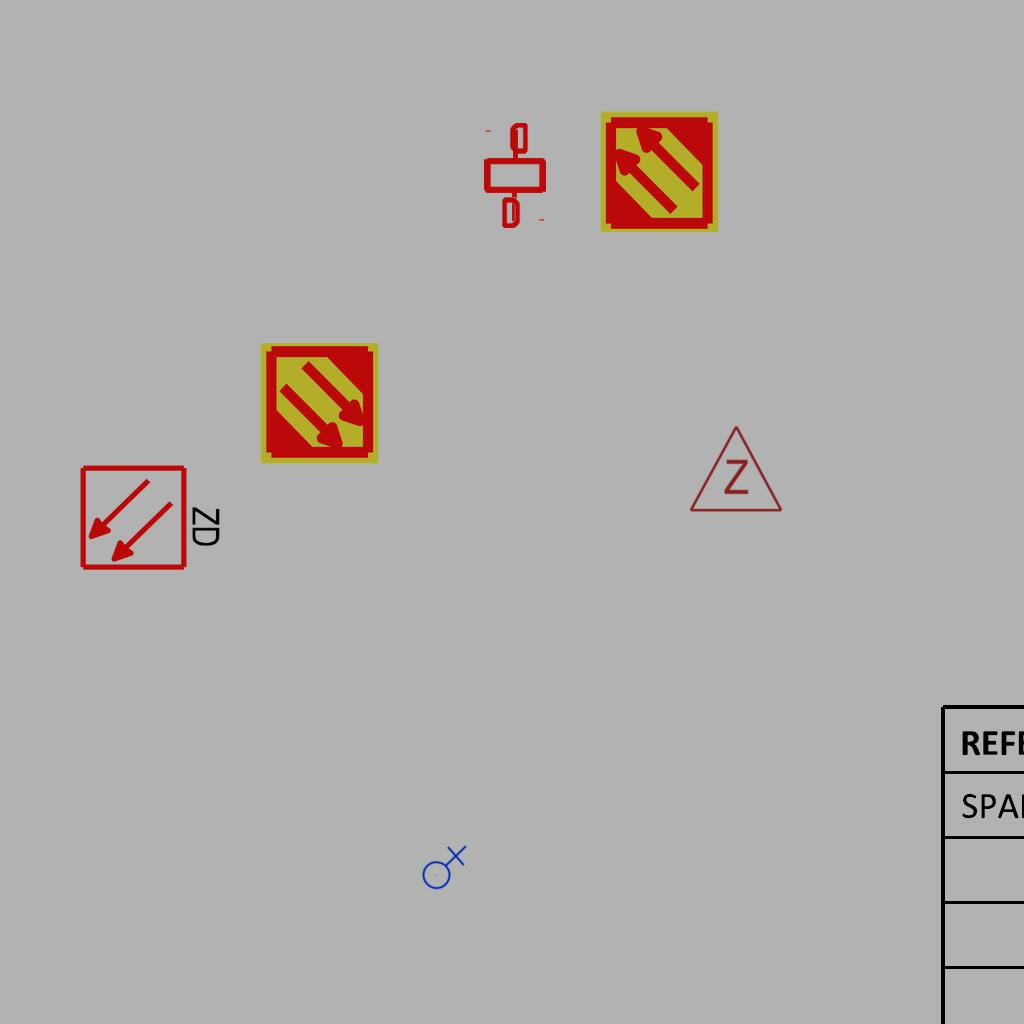ASR_Ansaugrauchmelder: (257, 341, 382, 466), (597, 109, 722, 234)
Datenanschluss_einfach: (480, 123, 549, 223), (481, 128, 550, 228)
Elektroanschluss_allgemein_230V_Geraeteanschlussdose_230V: (418, 843, 467, 890)
ZD_Melder_in_Zwischendecke_mit_Revisionsoeffnung_mind_40_x_40_cm: (78, 459, 227, 573)
Zimmersignalleuchte: (686, 419, 784, 519)
